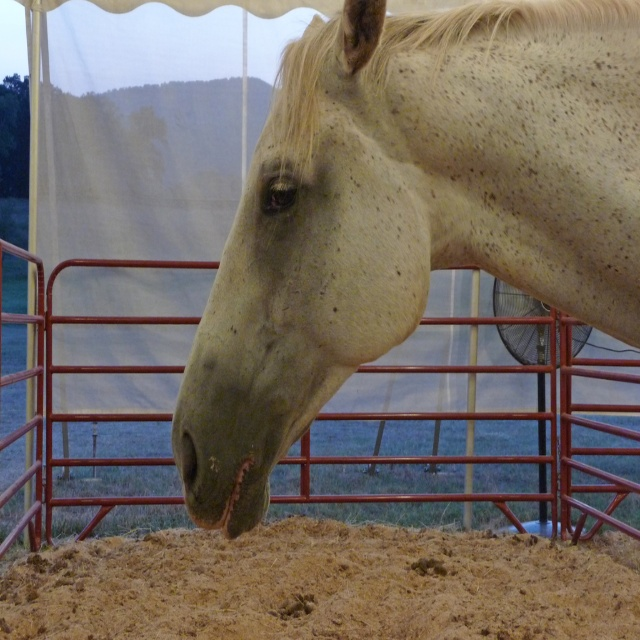Horse: (170, 0, 640, 545)
